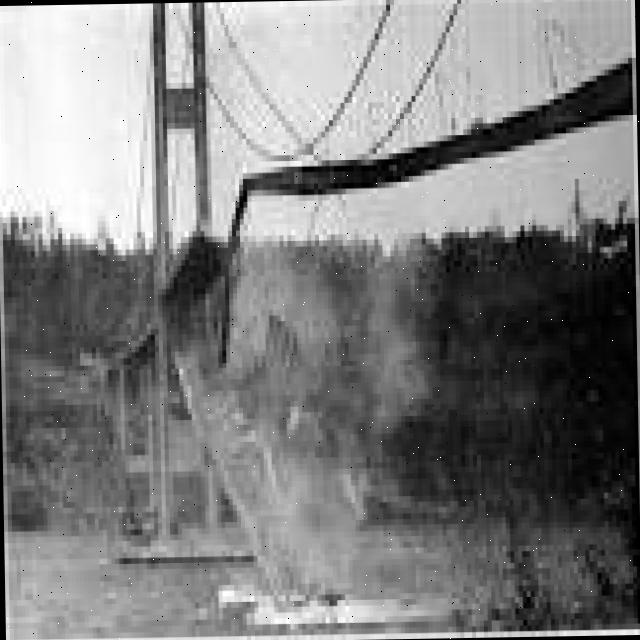bridge collapse: (68, 108, 520, 554)
